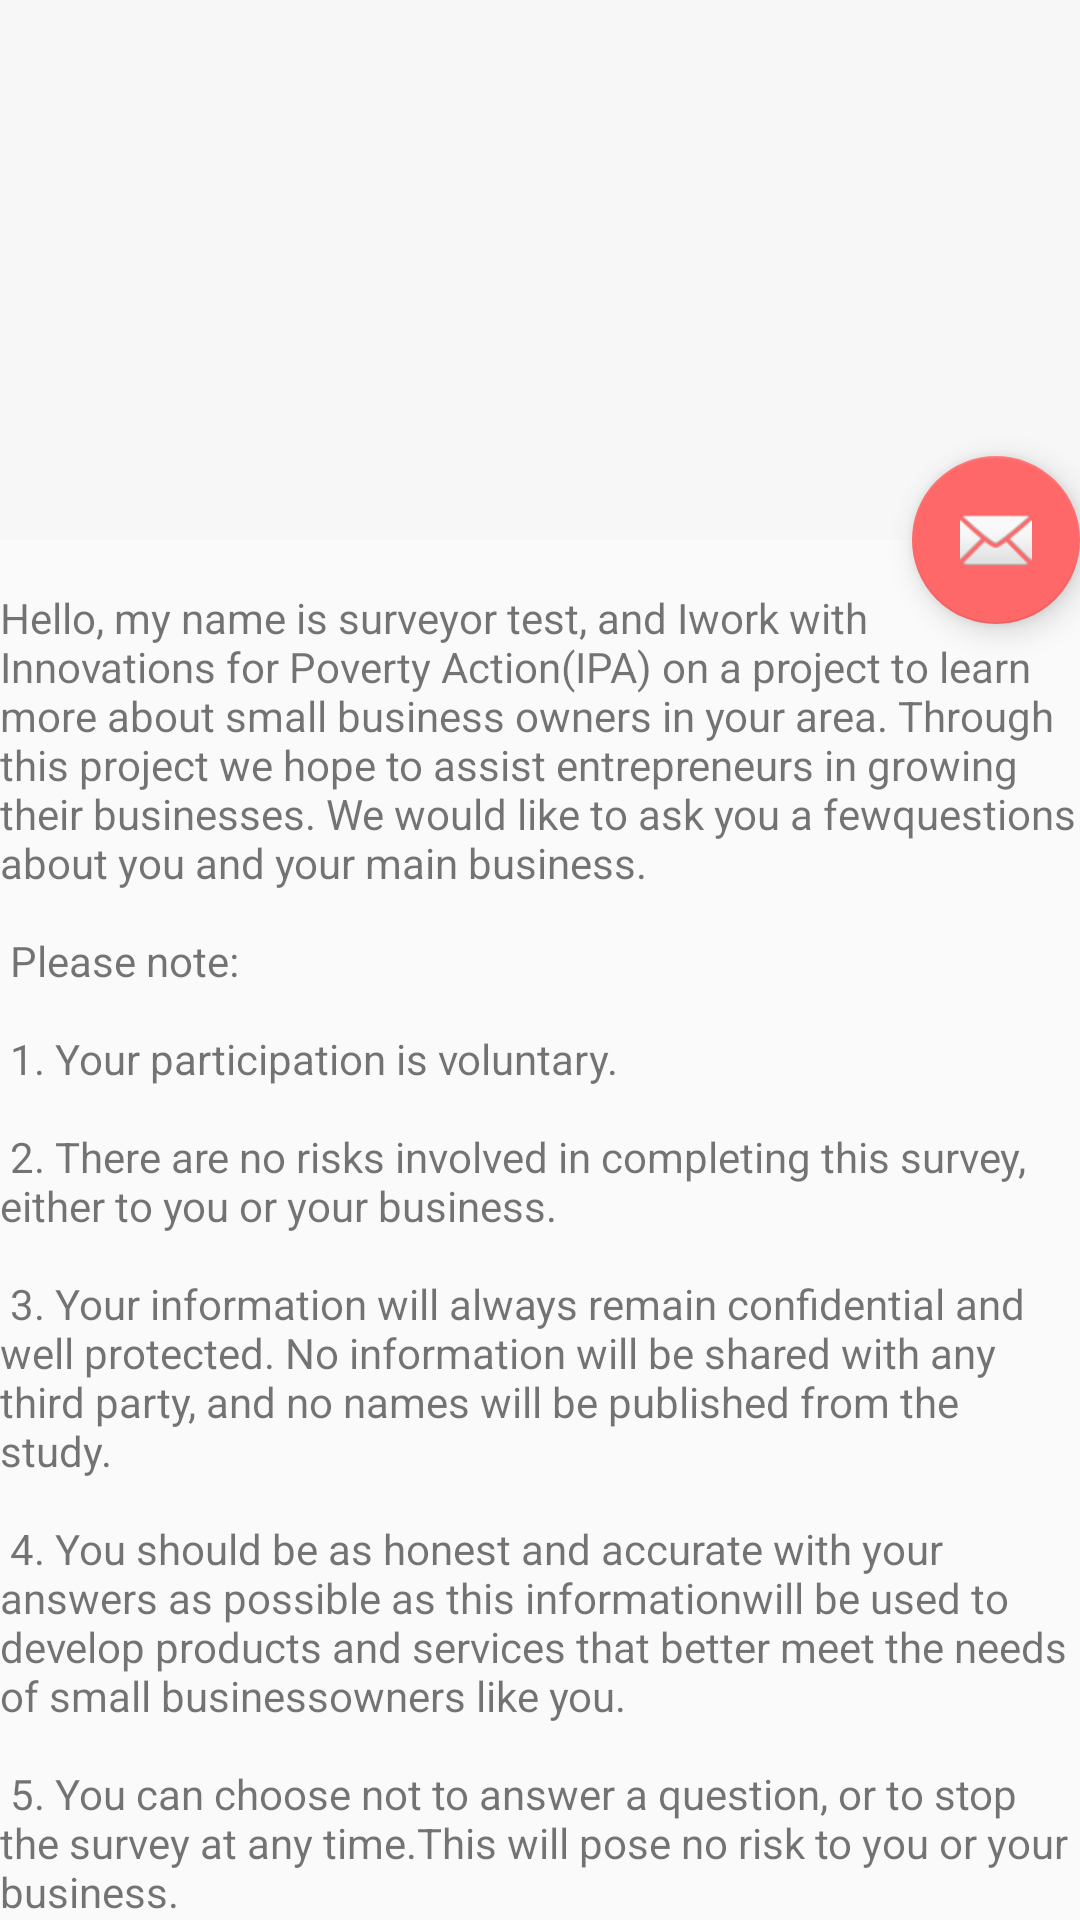

Icons on this 1080 x 1920 Android screen, each with its box as [x1=x1, y1=y1, x2=x2, y2=y2]:
email: [x1=912, y1=456, x2=1080, y2=624]
